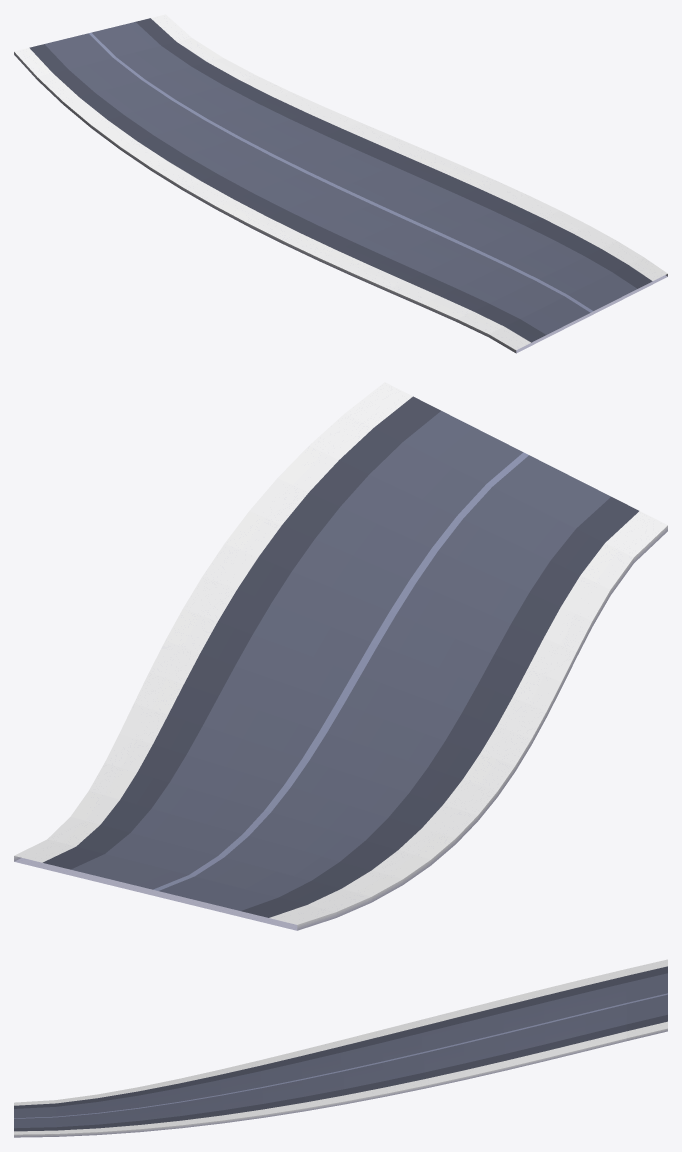
Rendered from road-Chicane-HalfBankedLeft-BiSlopeUp-Up2-Left1-Size4.glb.
3 renders of one model, top to bottom at view 1: azimuth 30°, elevation 25°; view 2: azimuth 150°, elevation 25°; view 3: azimuth 270°, elevation 25°, orthographic. The views are drawn at different scales.
Visible parts, largest first — view 1: road-Chicane-HalfBankedLeft-BiSlopeUp-Up2-Left1-Size4; view 2: road-Chicane-HalfBankedLeft-BiSlopeUp-Up2-Left1-Size4; view 3: road-Chicane-HalfBankedLeft-BiSlopeUp-Up2-Left1-Size4.
Boxes of the visible parts, x1,y1,x2,y2 form: road-Chicane-HalfBankedLeft-BiSlopeUp-Up2-Left1-Size4: (14, 14, 667, 353); road-Chicane-HalfBankedLeft-BiSlopeUp-Up2-Left1-Size4: (14, 382, 667, 930); road-Chicane-HalfBankedLeft-BiSlopeUp-Up2-Left1-Size4: (14, 959, 667, 1137).
Bounding box in the file's own units: 2 × 0.52 × 4.
Materials: 1 (1 with a texture image).
